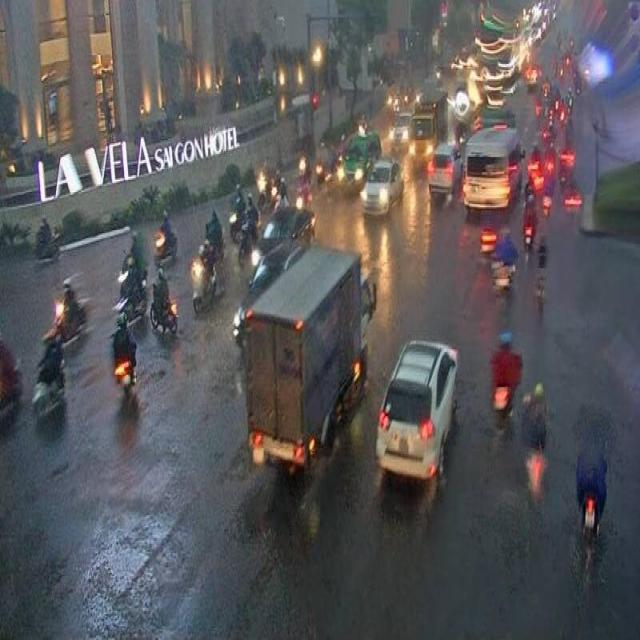car: (376, 337, 457, 480), (359, 161, 401, 215), (427, 143, 461, 198)
truck: (244, 244, 374, 475)
